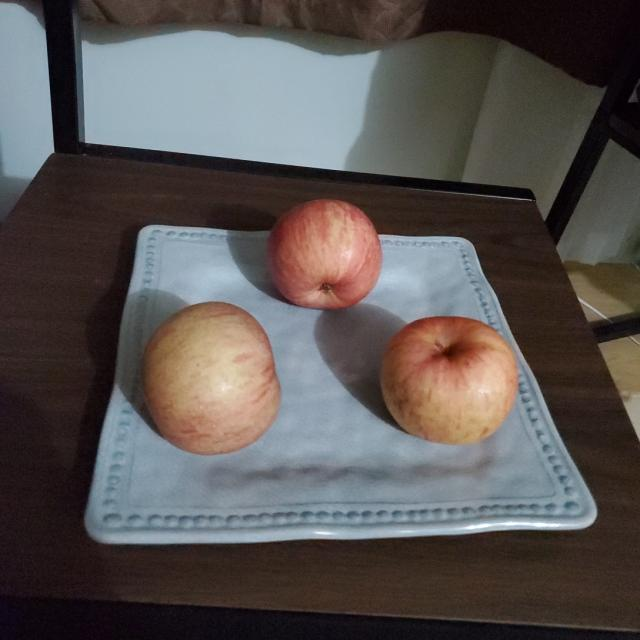apple: (145, 302, 284, 460), (380, 315, 521, 443), (266, 200, 384, 311)
